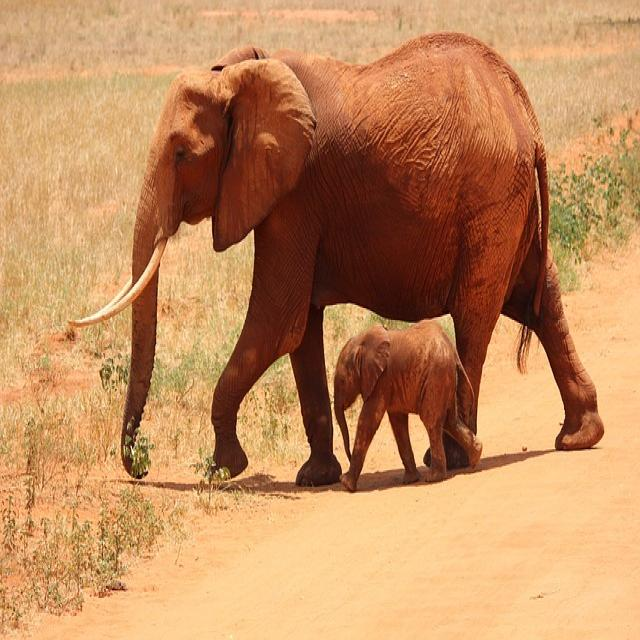elephant: (75, 34, 602, 485), (334, 319, 482, 491)
